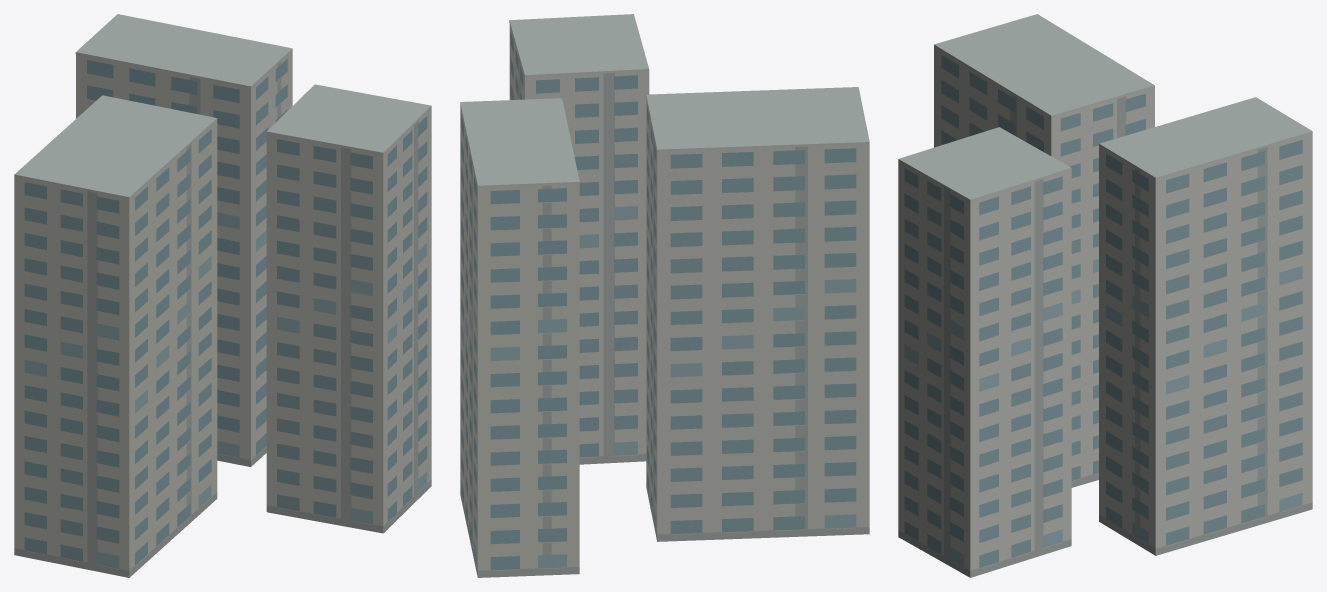
The model's file is residential-d1e5ea81-6aa8-4801-ba63-1cdb30eeca22.glb.
3 renders of one model, left to right at view 1: azimuth 30°, elevation 25°; view 2: azimuth 150°, elevation 25°; view 3: azimuth 270°, elevation 25°, orthographic. The views are drawn at different scales.
Visible parts, largest first — view 1: residential-d1e5ea81-6aa8-4801-ba63-1cdb30eeca22.tmp; view 2: residential-d1e5ea81-6aa8-4801-ba63-1cdb30eeca22.tmp; view 3: residential-d1e5ea81-6aa8-4801-ba63-1cdb30eeca22.tmp.
Boxes of the visible parts, left/top/right/bottom form: residential-d1e5ea81-6aa8-4801-ba63-1cdb30eeca22.tmp: left=14, top=14, right=431, bottom=577; residential-d1e5ea81-6aa8-4801-ba63-1cdb30eeca22.tmp: left=460, top=14, right=869, bottom=577; residential-d1e5ea81-6aa8-4801-ba63-1cdb30eeca22.tmp: left=898, top=14, right=1312, bottom=577.
Size of the model in its own units: 43.21 by 41 by 40.73.
